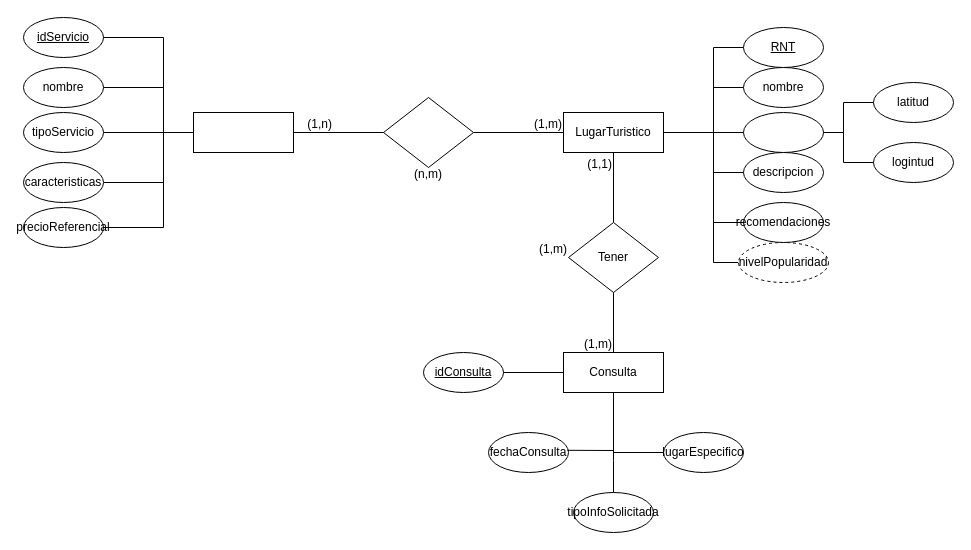
Image size: 971x550. Some labels were removed from this diagram. The shapes that lost their labels are listed below. From the top down, each one's centre as x and y in pixels, then its label:
(243,132): Servicio
(428,132): Ofrecer
(783,132): ubicacionGeo
